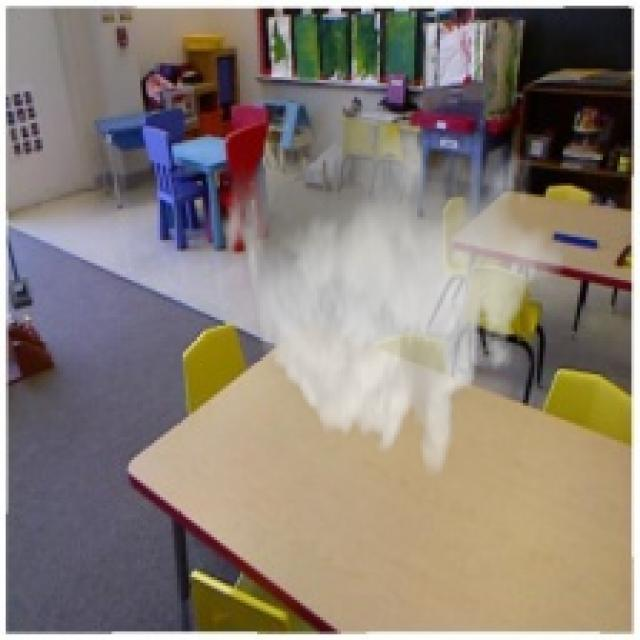smoke: (217, 74, 566, 480)
